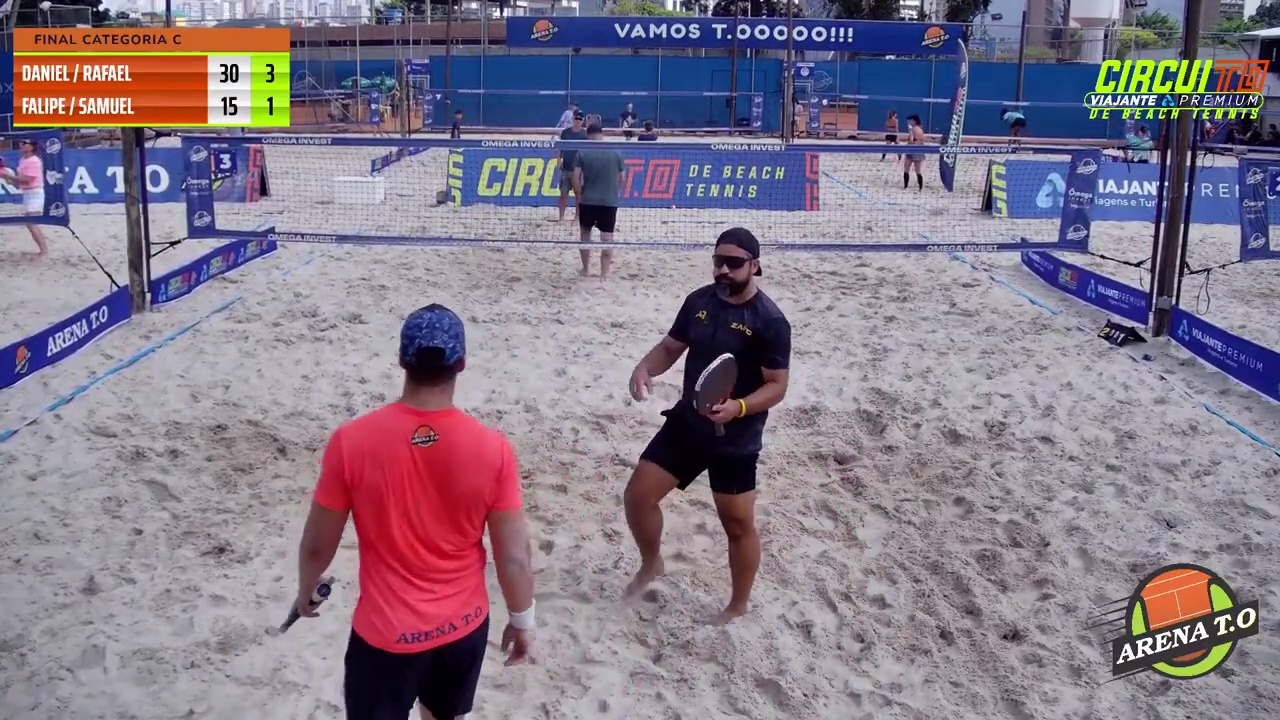court_line: (626, 0, 809, 475)
